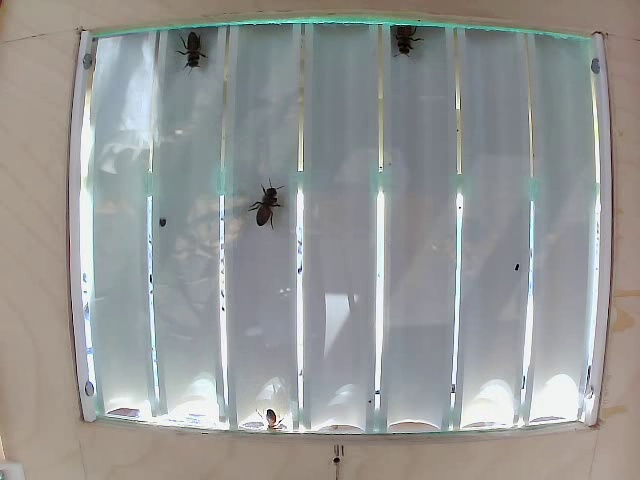bee: (256, 181, 296, 244), (388, 20, 436, 69), (168, 31, 211, 77)
